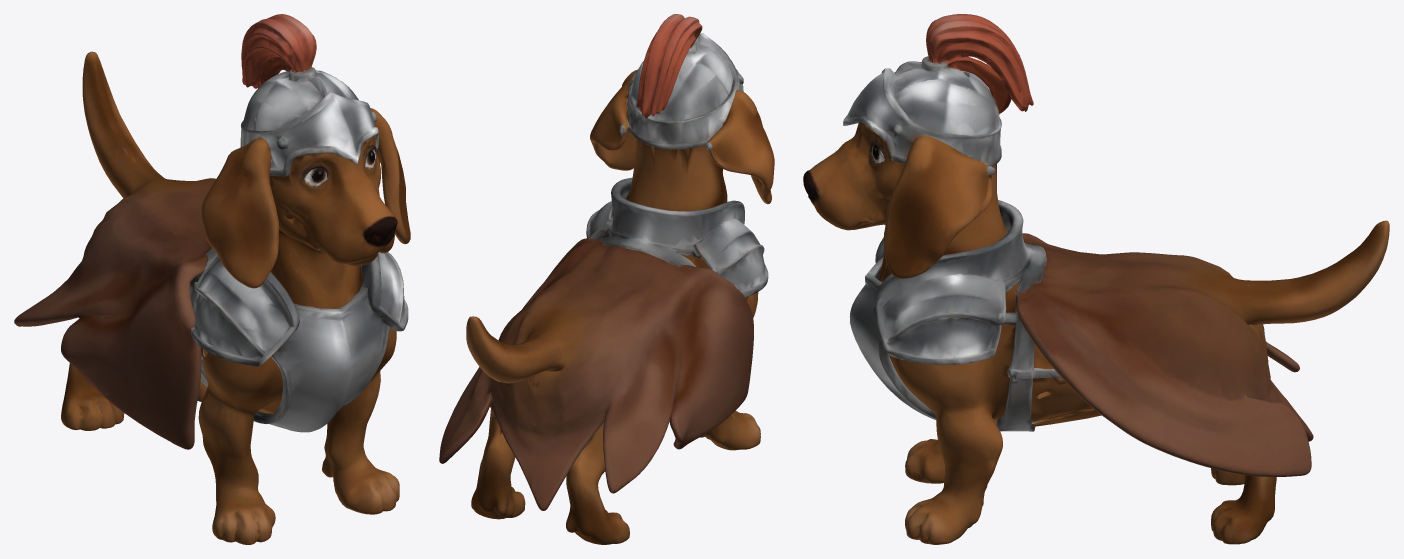
File: detail_9.glb
The picture shows the model from 3 angles, left to right: view 1: azimuth 30°, elevation 25°; view 2: azimuth 150°, elevation 25°; view 3: azimuth 270°, elevation 25°; orthographic projection. The views are drawn at different scales.
Size of the model in its own units: 0.4809 by 0.9082 by 0.9986.
1 material, 1 textured.
